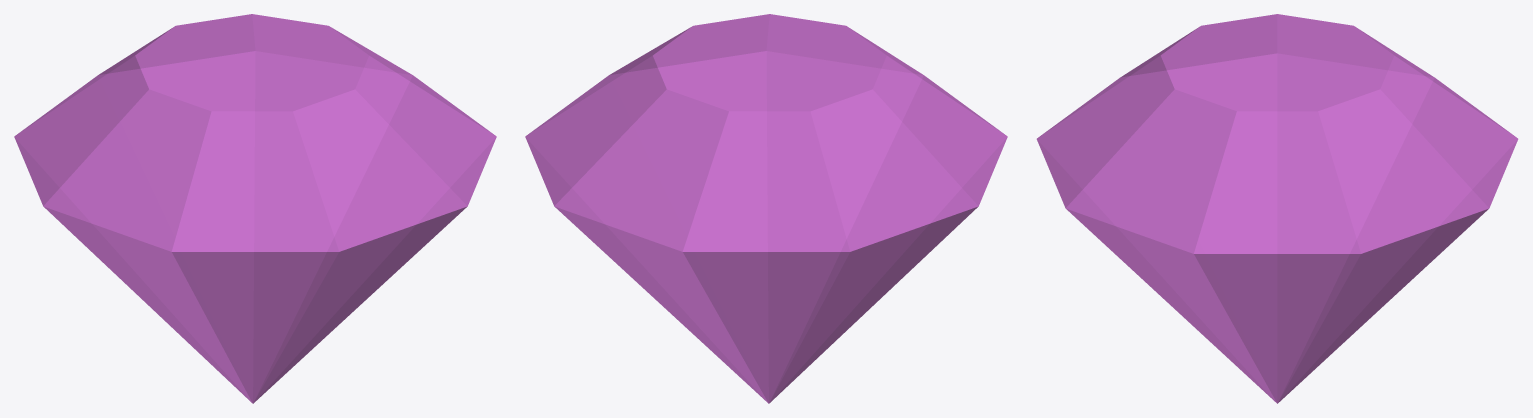
The model's file is basic_gem.fbx.
The picture shows the model from 3 angles, left to right: view 1: azimuth 30°, elevation 25°; view 2: azimuth 150°, elevation 25°; view 3: azimuth 270°, elevation 25°; orthographic projection.
Parts seen in each view (by area): view 1: gem; view 2: gem; view 3: gem.
Boxes of the visible parts, x1,y1,x2,y2 form: gem: (14, 14, 496, 403); gem: (525, 14, 1007, 403); gem: (1036, 14, 1518, 403).
Size of the model in its own units: 21.62 by 17.06 by 21.95.
